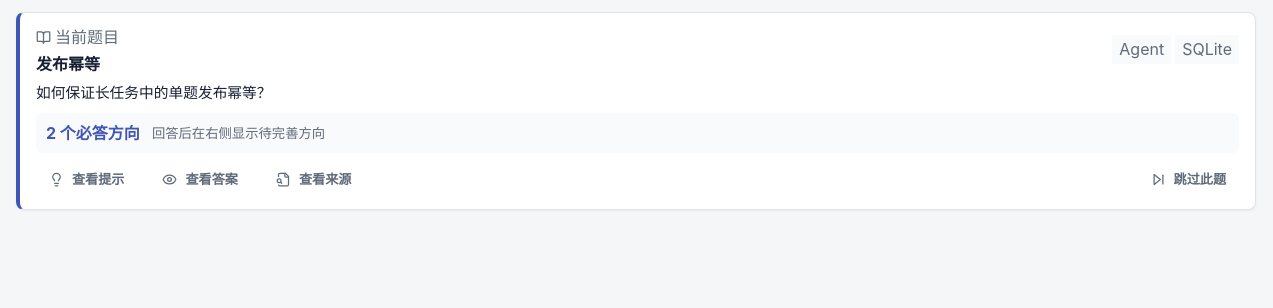
Scenario: CurrentQuestionCard › does not expose an internal document id when no source document is linked
Click the button "查看来源": click(314, 179) [263,161,364,197]
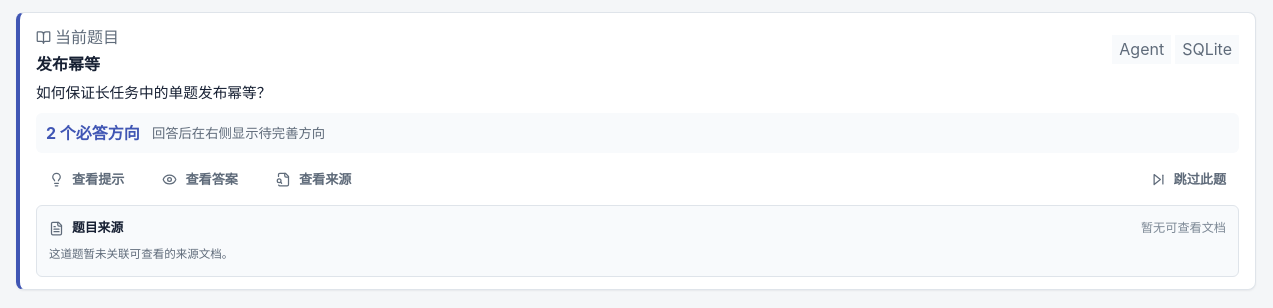
Check: the text "这道题暂未关联可查看的来源文档。" is shown, box [49,247,233,261]
